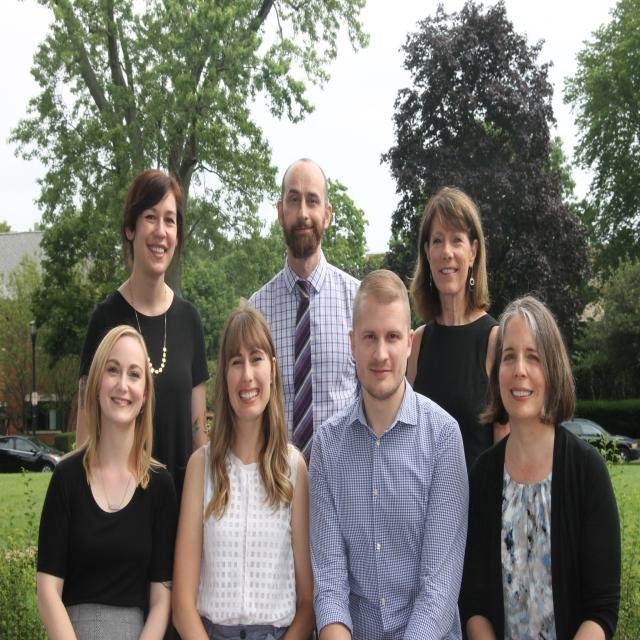body: (302, 265, 474, 640), (458, 294, 622, 638), (166, 298, 317, 640), (400, 183, 510, 639), (31, 320, 180, 640), (75, 168, 211, 516), (245, 156, 362, 475)
